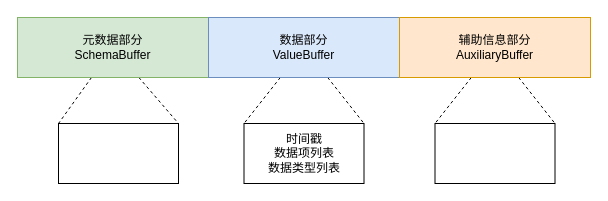
This 608x201 diagram has some shape labels left out. The shapes that lost their labels are listed below. From the top down, each one's centre as x and y in pixels, then its label:
the point at 118,153: 设备 ID 列表 序列 ID 列表
the point at 494,153: 会话 ID 数据是否对齐 ...
